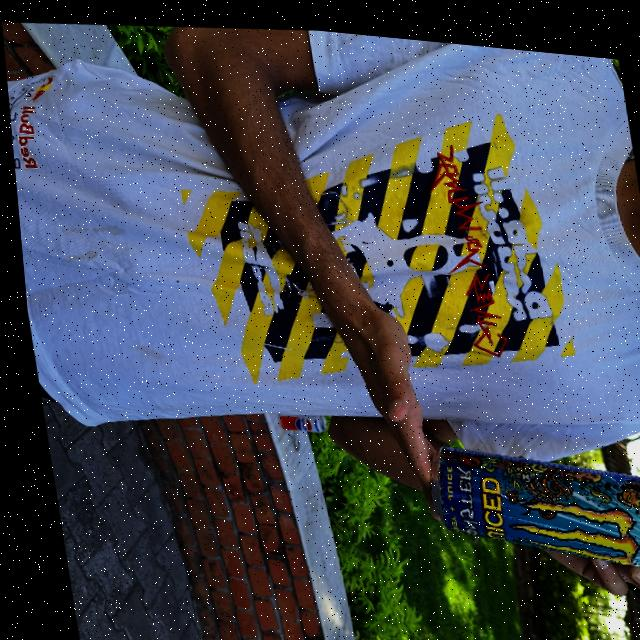Monster Aussie Lemonade: (416, 412, 640, 580)
